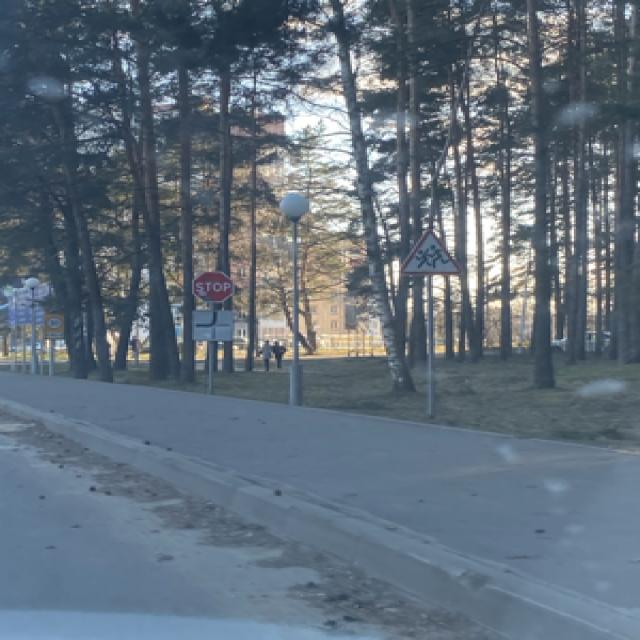stop: (190, 269, 230, 301)
